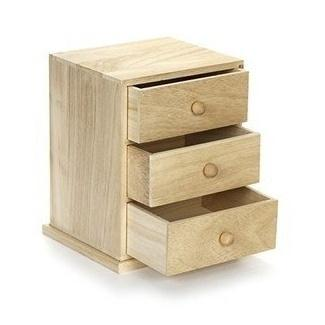cabinet_door: (130, 76, 248, 130), (150, 141, 259, 192), (168, 210, 276, 258)
handle: (218, 228, 236, 249), (191, 98, 207, 119), (203, 162, 220, 181)
